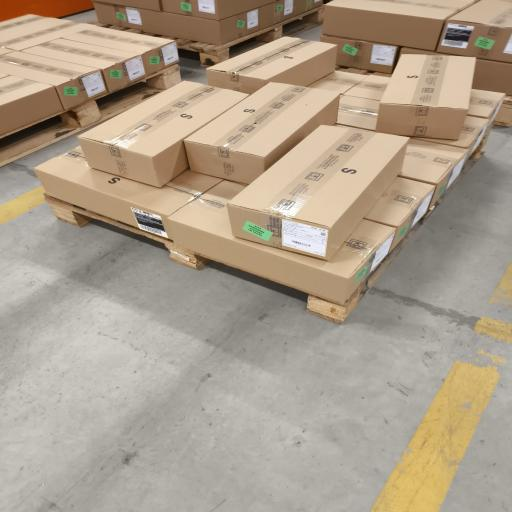pallet: (307, 156, 476, 324), (0, 64, 181, 166), (45, 195, 210, 269), (45, 194, 207, 269), (168, 5, 323, 67), (336, 66, 391, 77), (495, 96, 511, 127)
